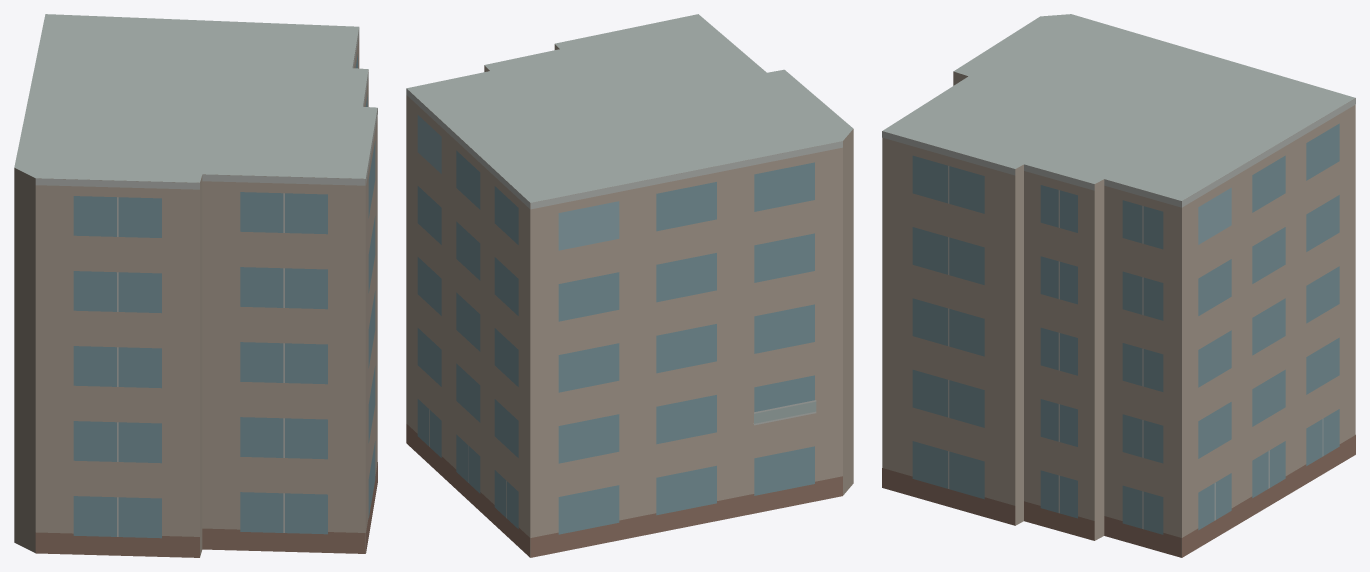
Rendered from survey-upis-33024012.glb.
3 views of the same model, side by side, from view 1: azimuth 30°, elevation 25°; view 2: azimuth 150°, elevation 25°; view 3: azimuth 270°, elevation 25° (orthographic). The views are drawn at different scales.
Parts seen in each view (by area): view 1: survey-upis-33024012.tmp; view 2: survey-upis-33024012.tmp; view 3: survey-upis-33024012.tmp.
Boxes of the visible parts, <box> form: survey-upis-33024012.tmp: <box>14,14,377,557</box>; survey-upis-33024012.tmp: <box>406,14,853,557</box>; survey-upis-33024012.tmp: <box>882,14,1355,557</box>.
Size of the model in its own units: 14.97 by 13.3 by 16.01.
